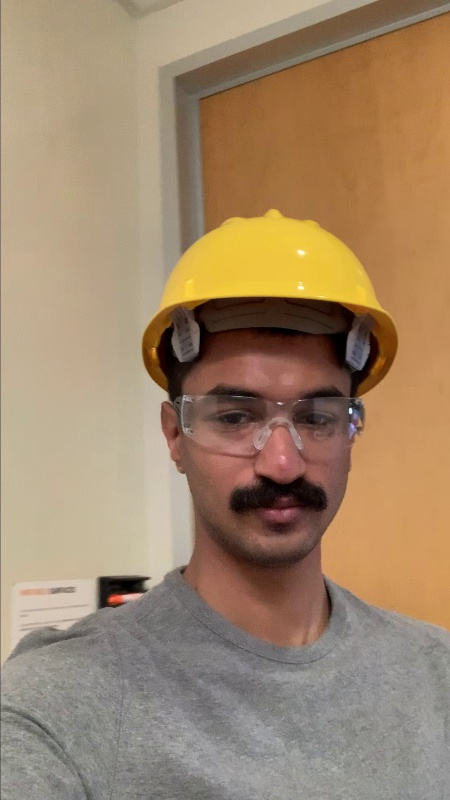glasses: (174, 387, 369, 461)
helmet: (137, 206, 409, 367)
